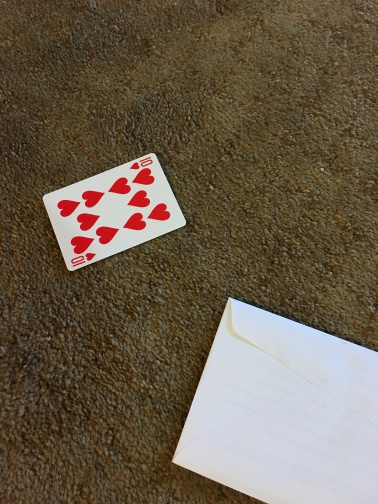ten: (41, 152, 189, 271)
